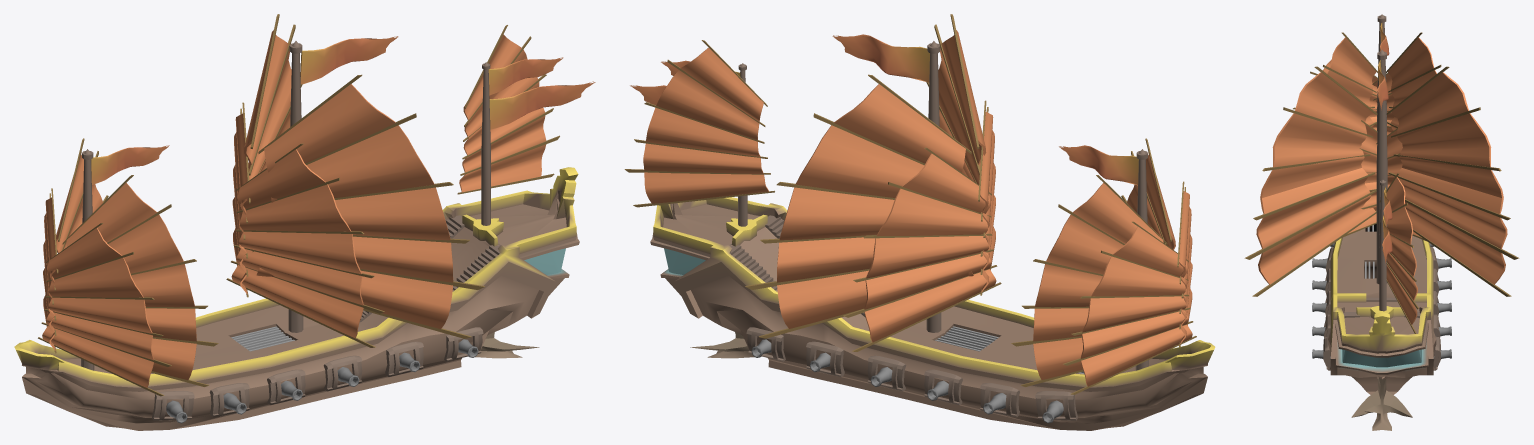
Rendered from ship3.glb.
3 views of the same model, side by side, from view 1: azimuth 30°, elevation 25°; view 2: azimuth 150°, elevation 25°; view 3: azimuth 270°, elevation 25° (orthographic). The views are drawn at different scales.
Size of the model in its own units: 3.11 by 1.87 by 1.58.
